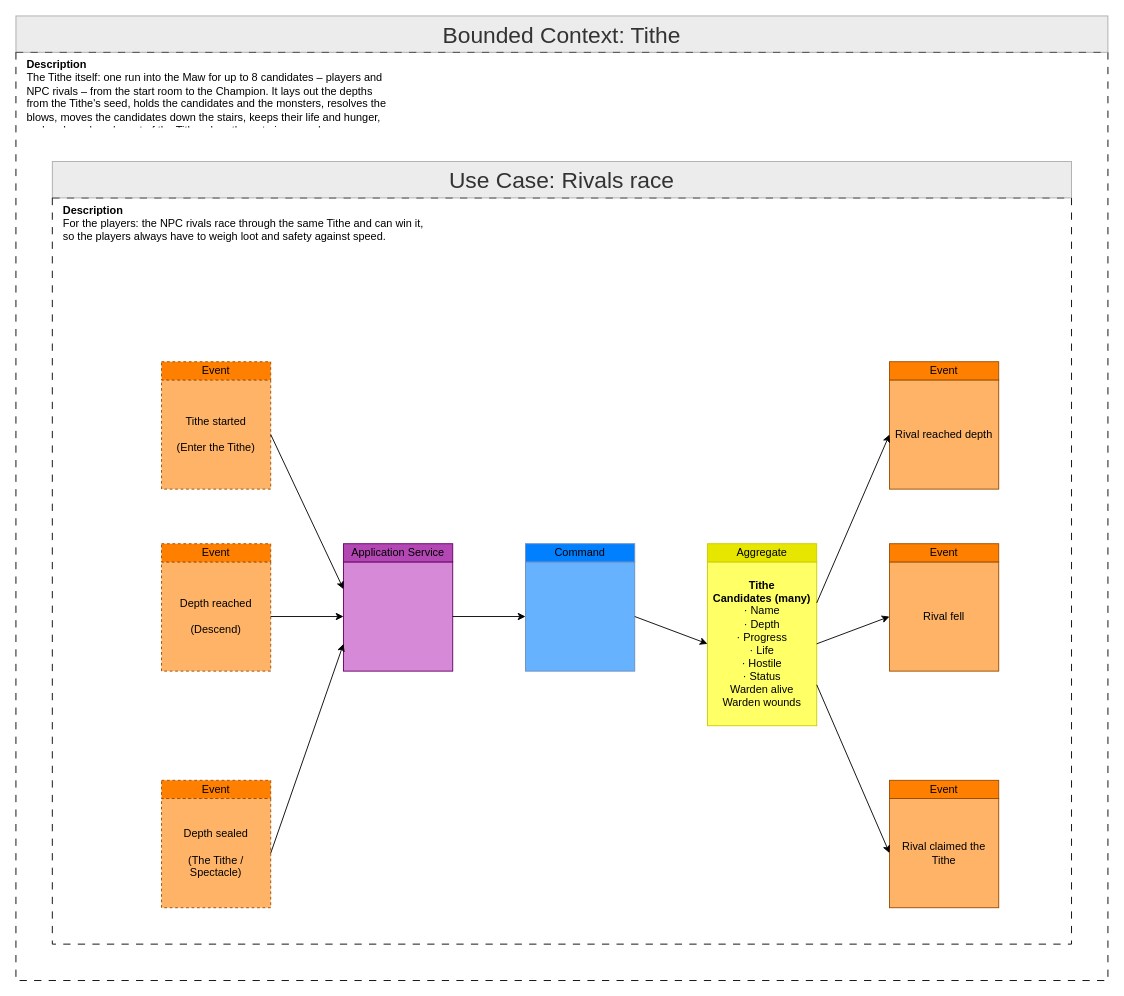
Some shapes in this 1124 by 996 pixel diagram are drawn without their labels. Here are the shapes that lost their labels. From the top down, the box of each, then its label:
(343, 561, 453, 671): Rival director
(525, 561, 635, 671): Advance rival Rival
